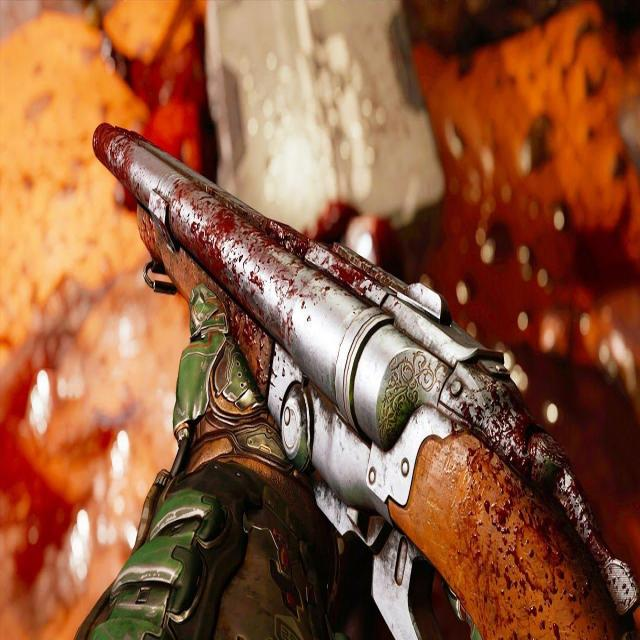weapon: (86, 113, 640, 640)
